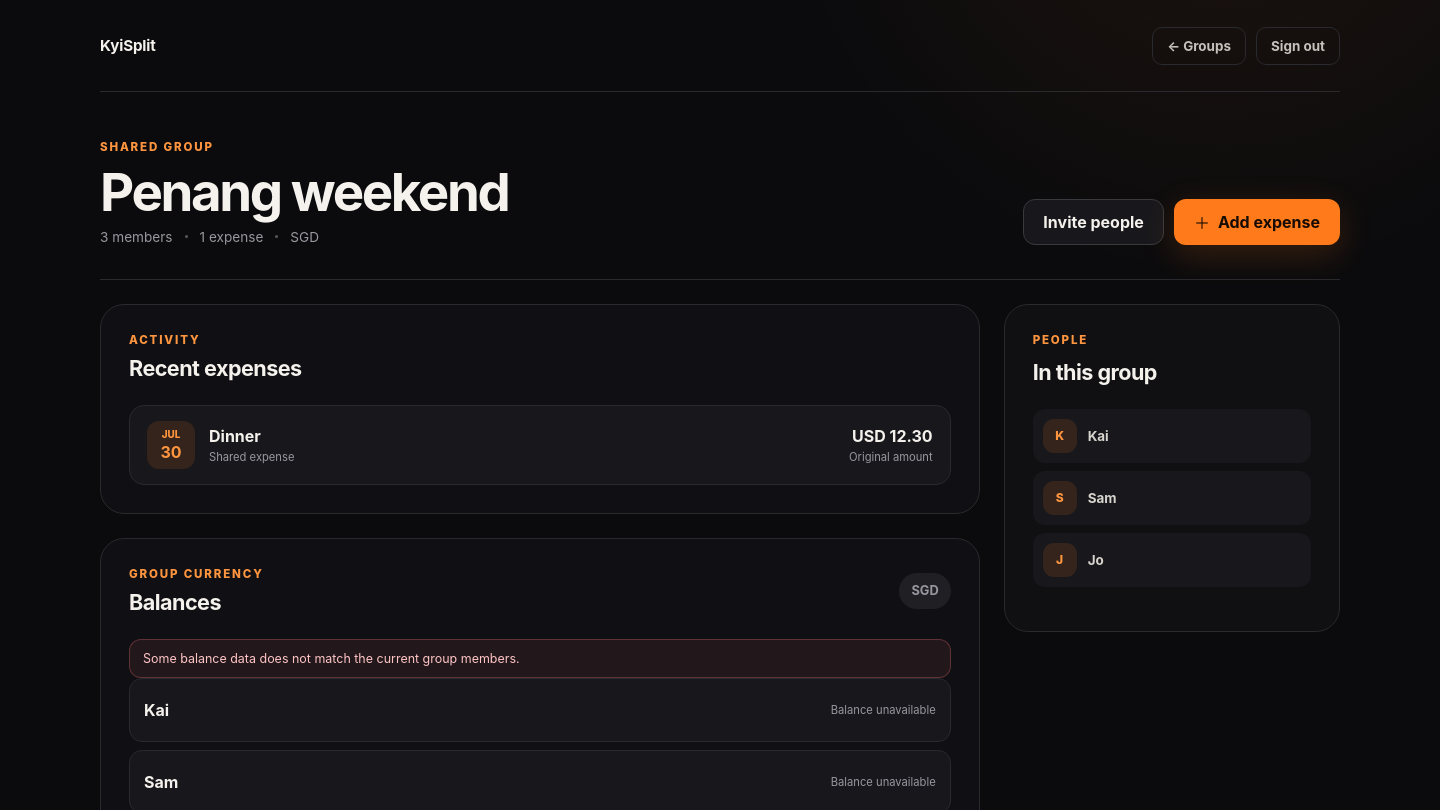
Test: cancels confirmation with the button or Escape and keeps the row
The width and height of the screenshot is (1440, 810).
Click the button with aria-label "View details for Dinner".
click(171, 445)  # box x1=129 y1=405 x2=951 y2=485
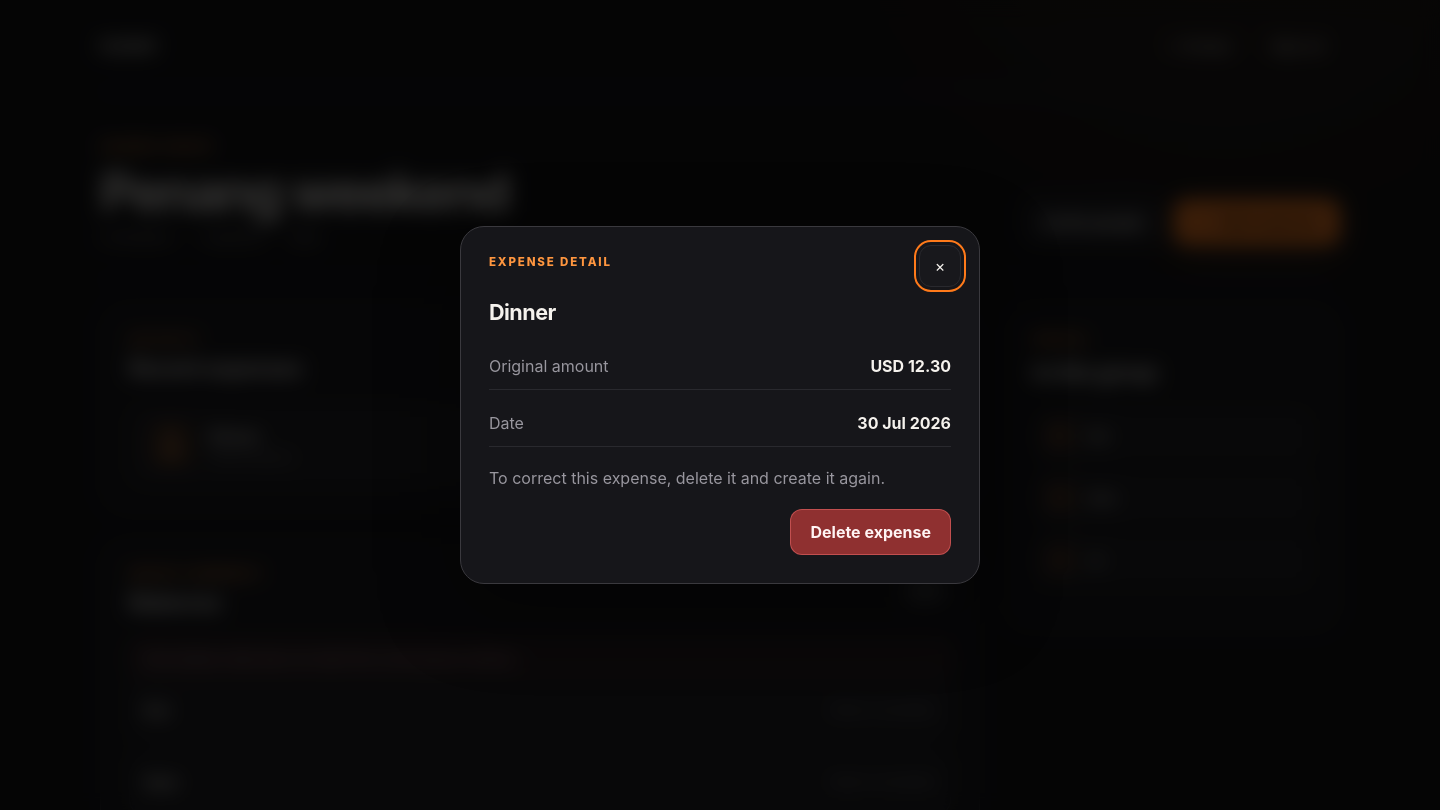
Click the button "Delete expense".
click(871, 532)  # box x1=790 y1=509 x2=951 y2=555
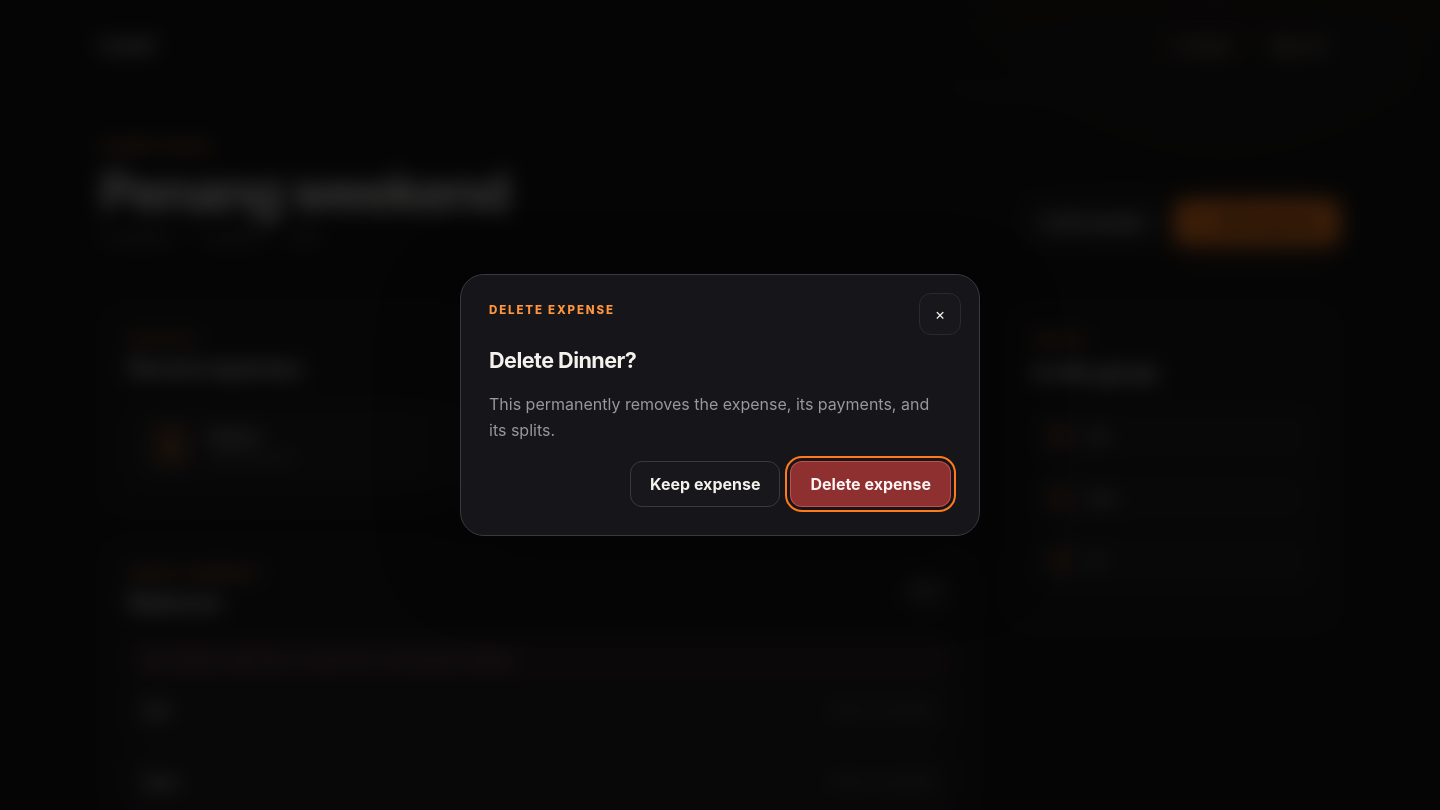
Click the button "Keep expense".
click(705, 484)  # box x1=630 y1=461 x2=780 y2=507
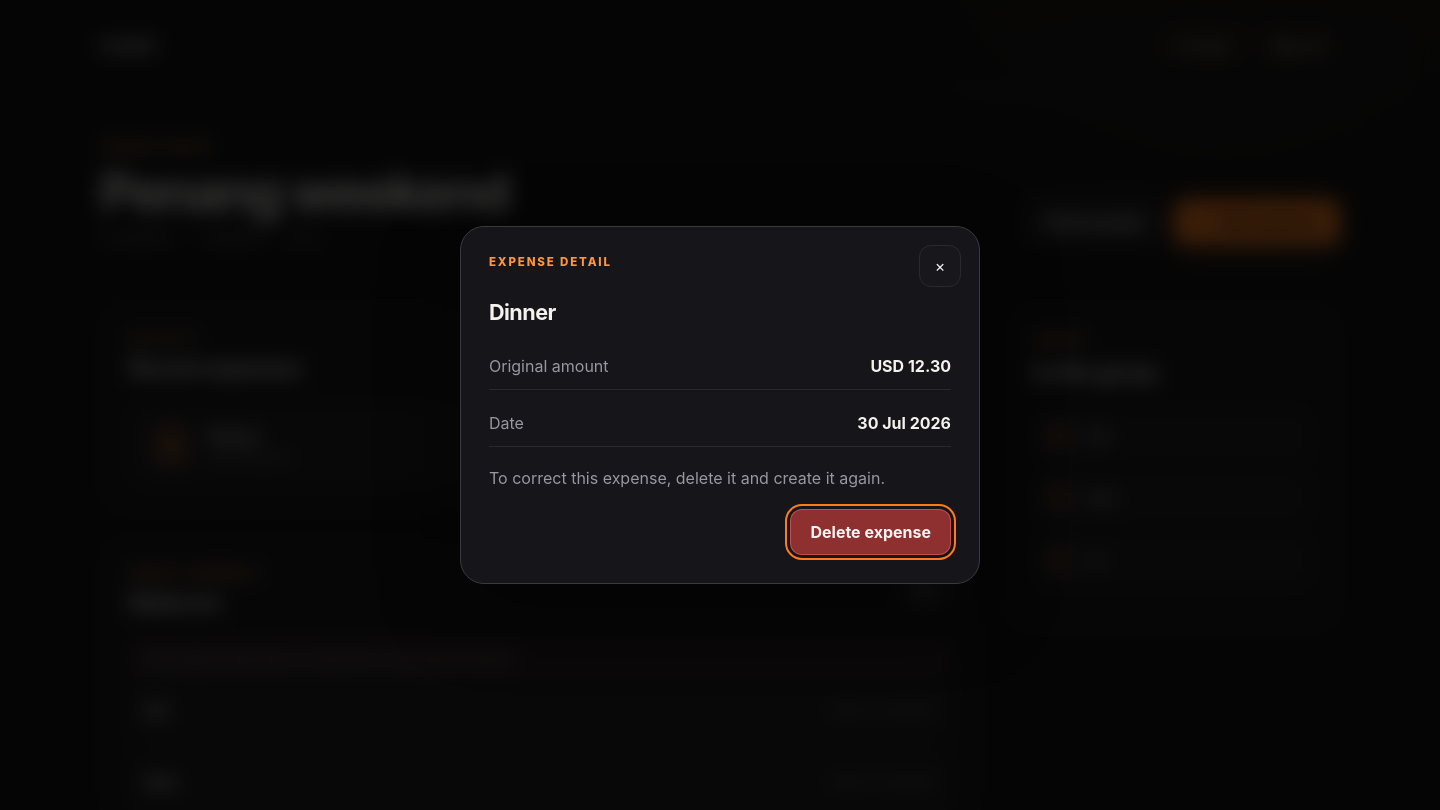
Now the heading "Delete Dinner?" is gone
Now the dialog named "Dinner expense details" is shown, box x1=460 y1=226 x2=980 y2=584
Click the button "Delete expense".
click(871, 532)  # box x1=790 y1=509 x2=951 y2=555
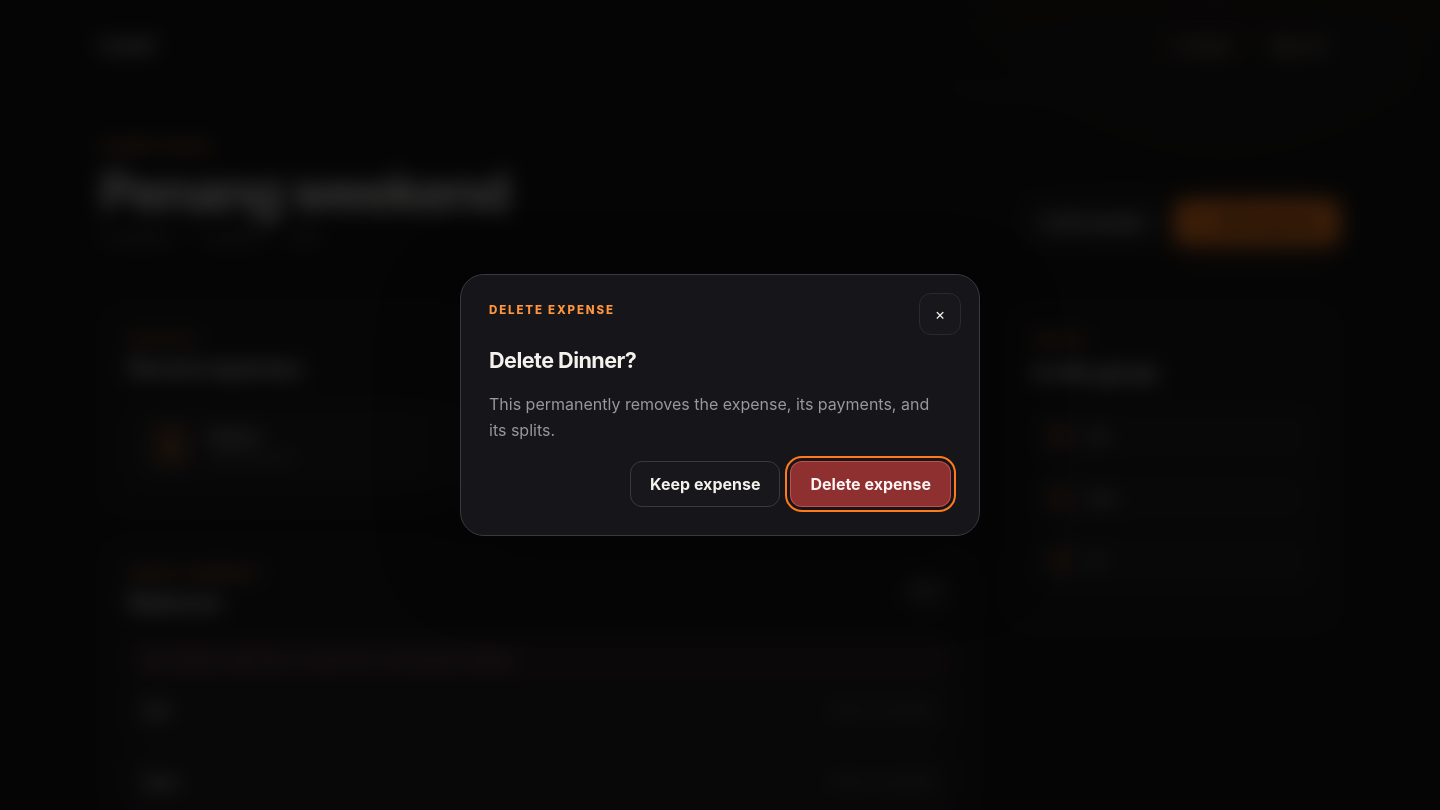
Press Escape
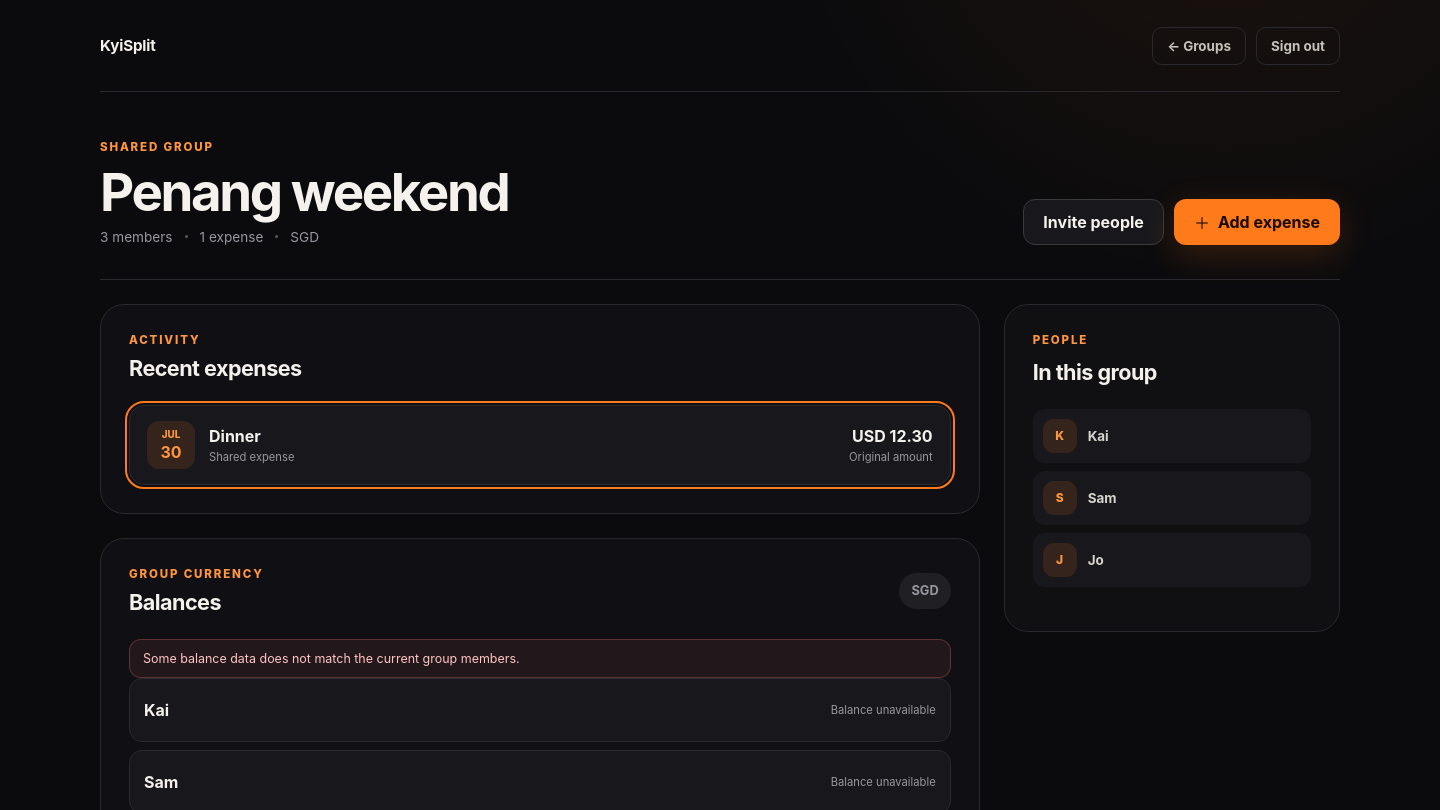
Expected: the button with aria-label "View details for Dinner" is shown, x1=129 y1=405 x2=951 y2=485
Now the dialog is gone
